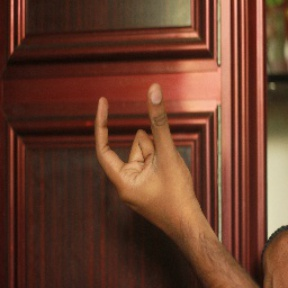U: (90, 76, 191, 215)
